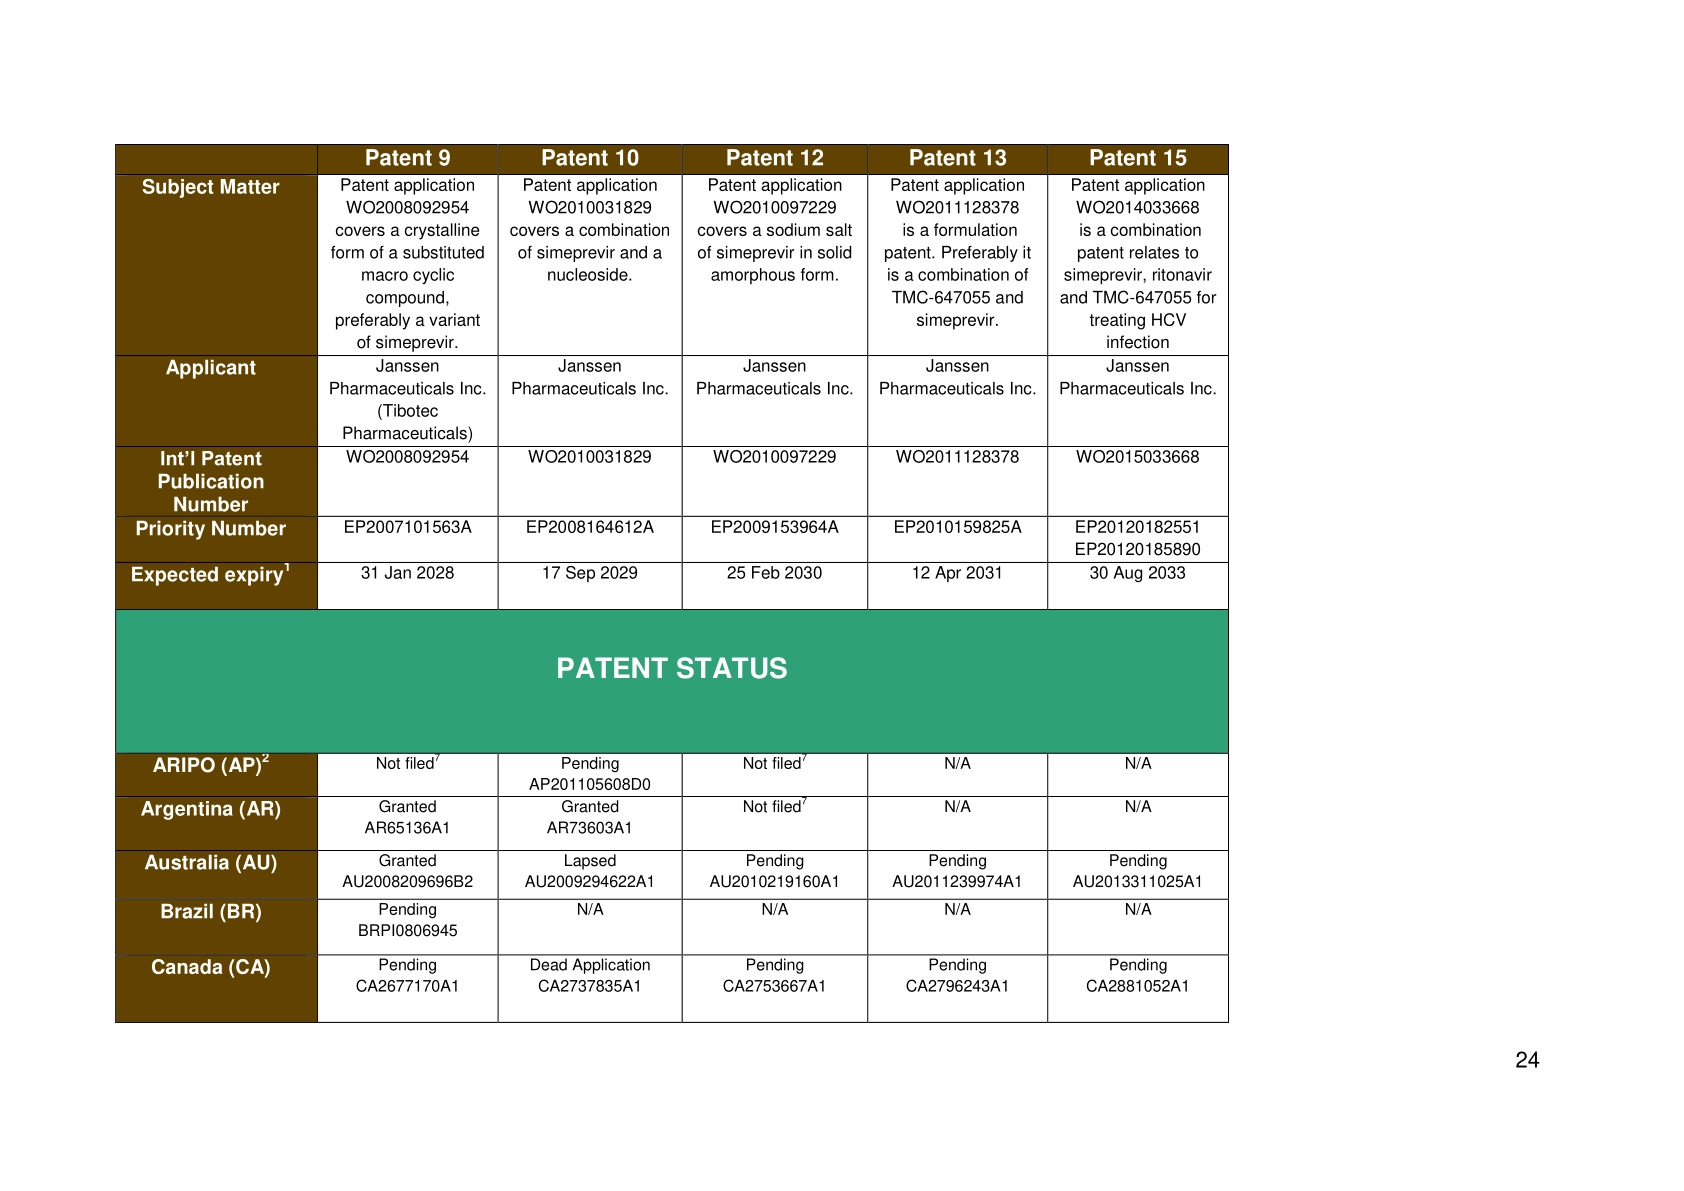merged_cells: (113, 143, 1230, 1025)
